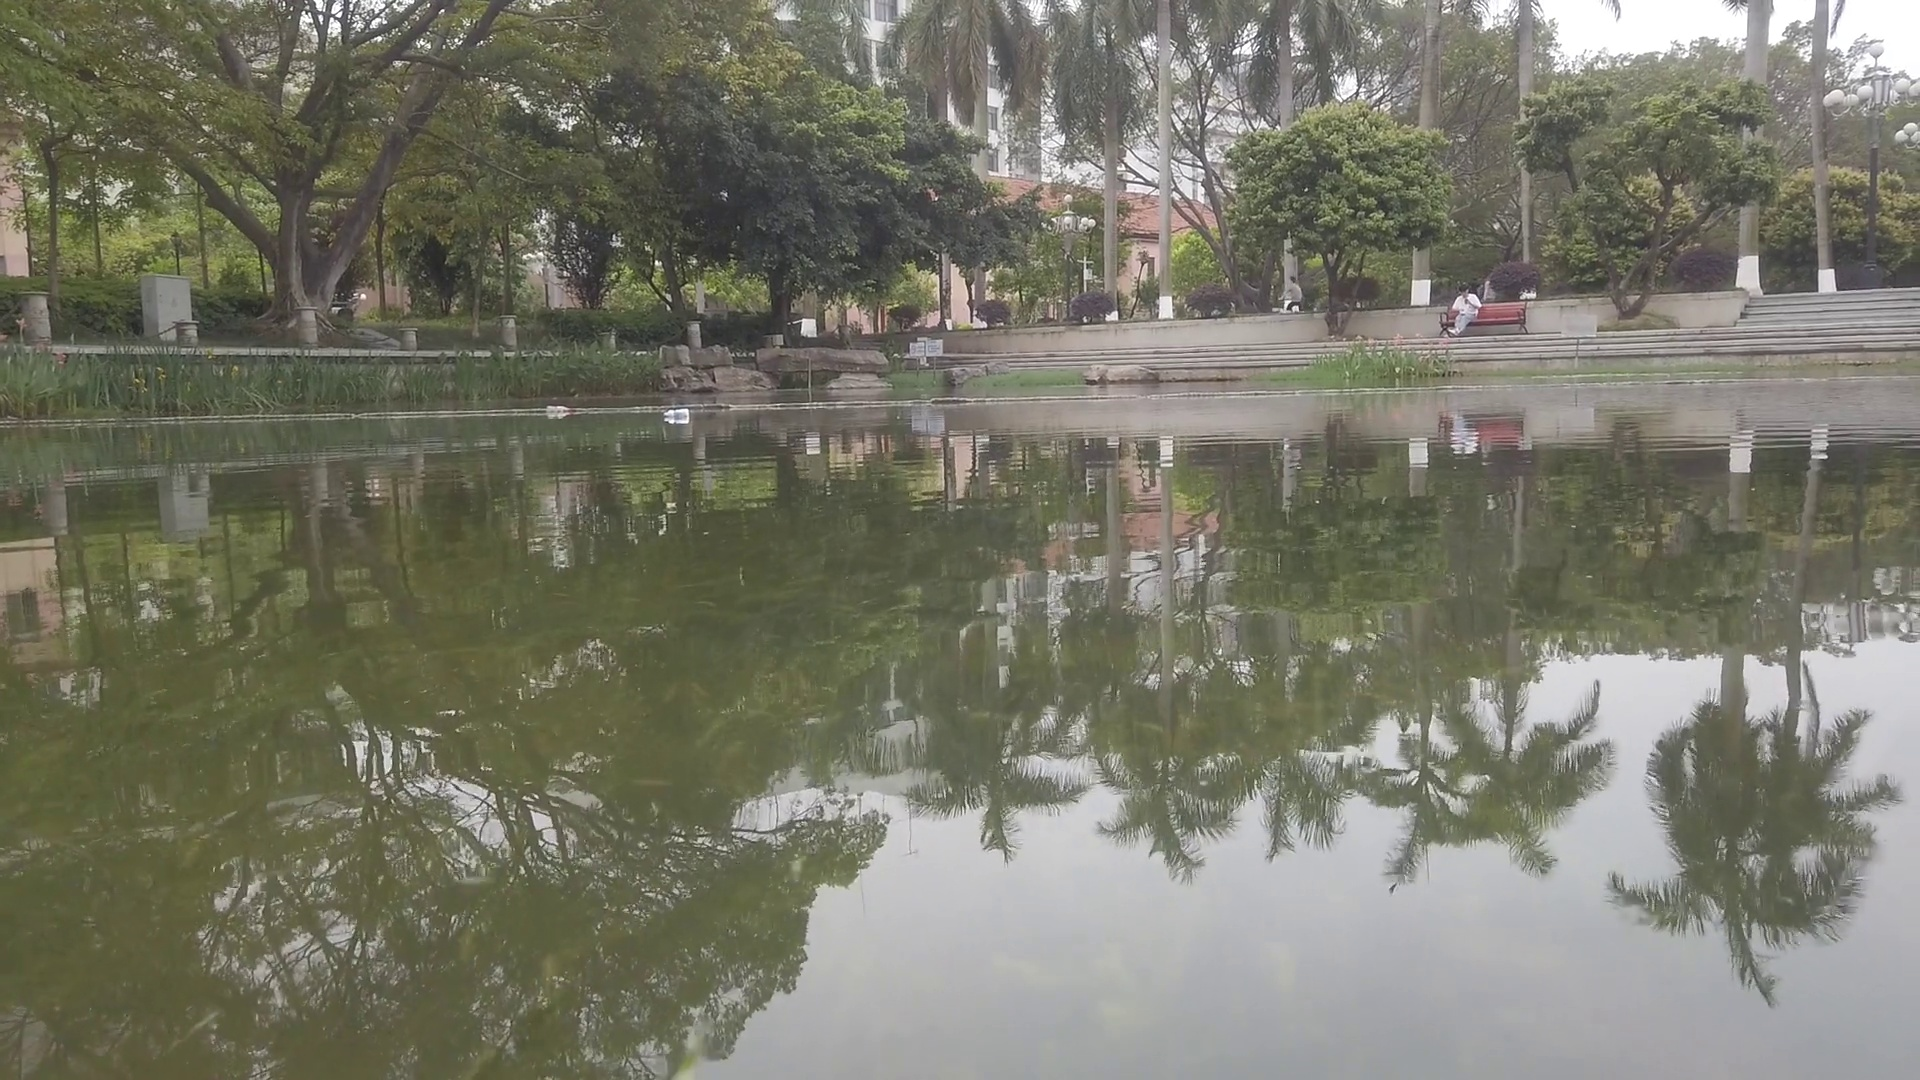bottle: (663, 407, 691, 419), (547, 405, 574, 413)
